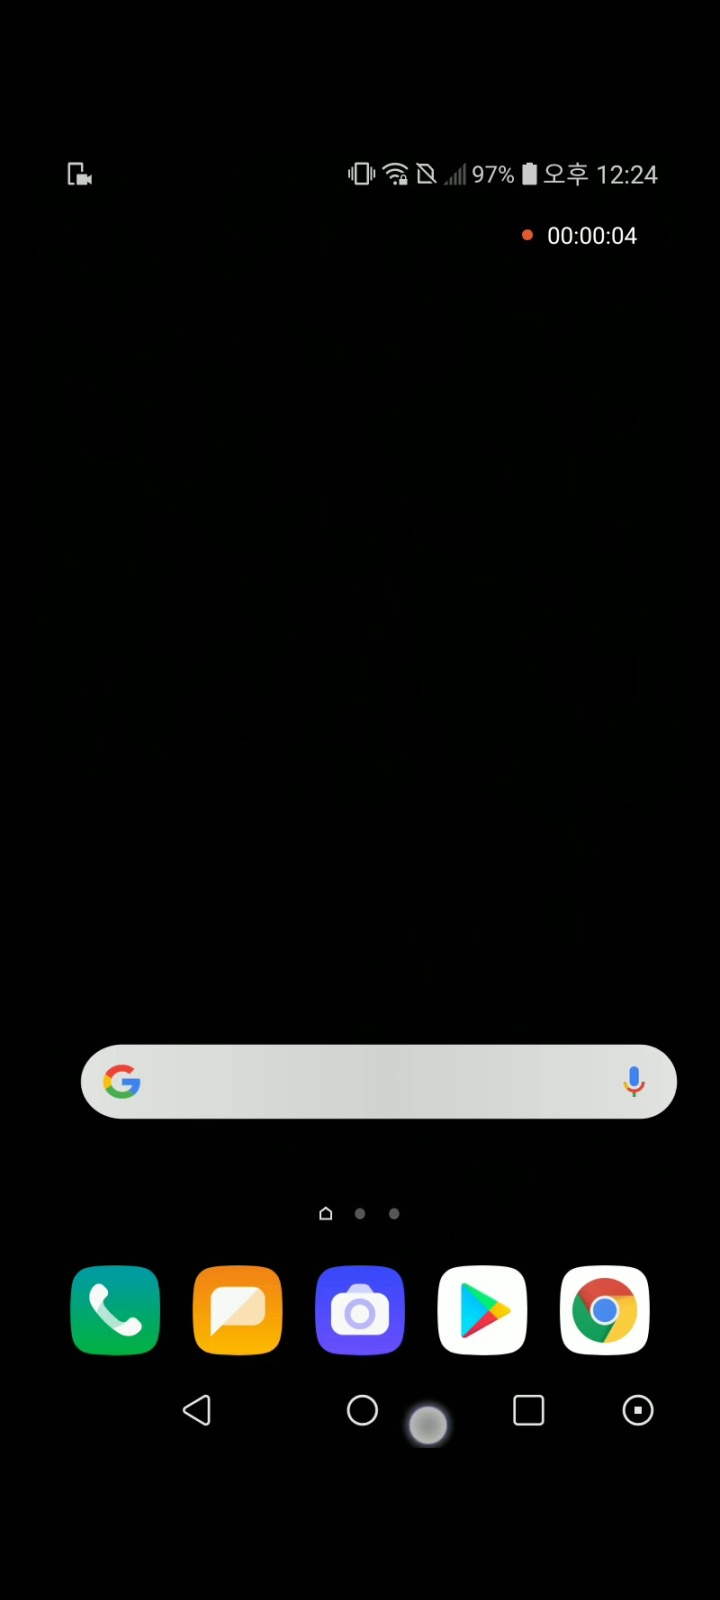Cursor: (406, 1403, 451, 1448)
